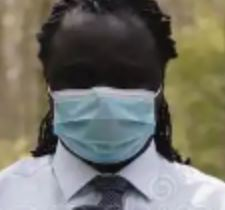with_facemask: (51, 88, 162, 162)
